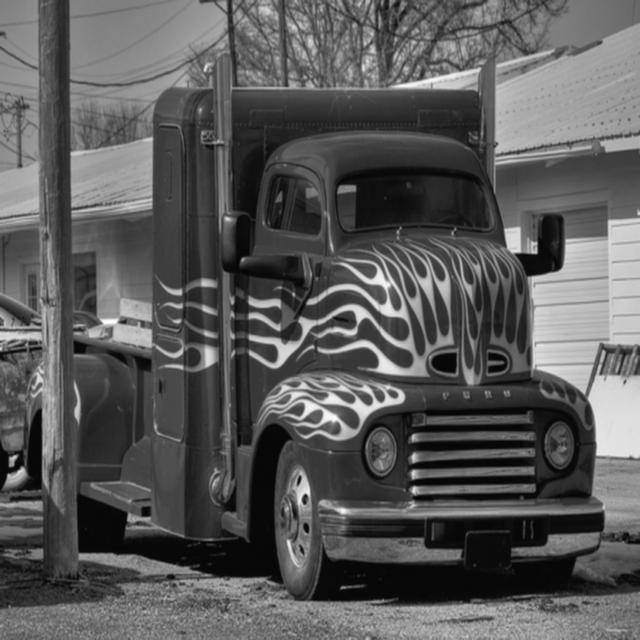car: (0, 287, 41, 327)
pole: (31, 0, 84, 580)
truck: (73, 47, 608, 604)
